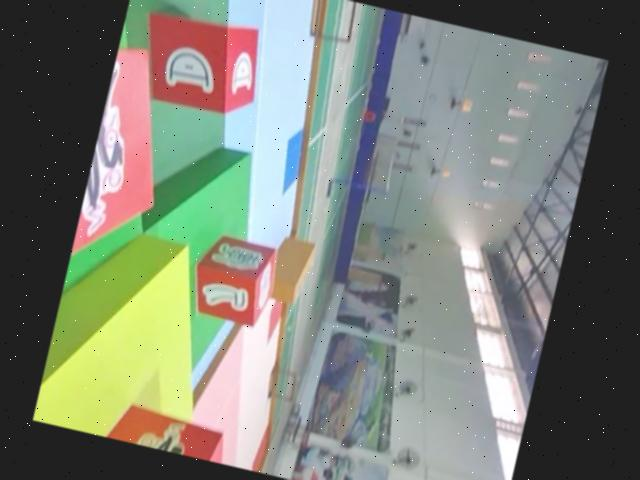R1: (66, 42, 192, 291), (69, 391, 239, 466)
R2 Fake: (184, 226, 283, 332)
R2 Real: (125, 0, 272, 124)
